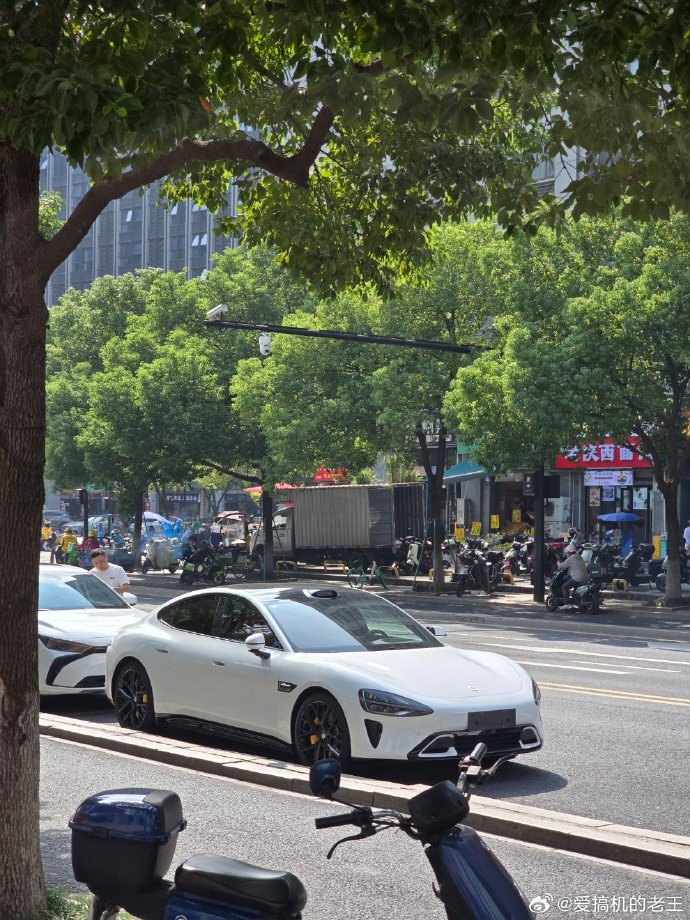other: (35, 561, 131, 706)
su7: (104, 583, 539, 768)
